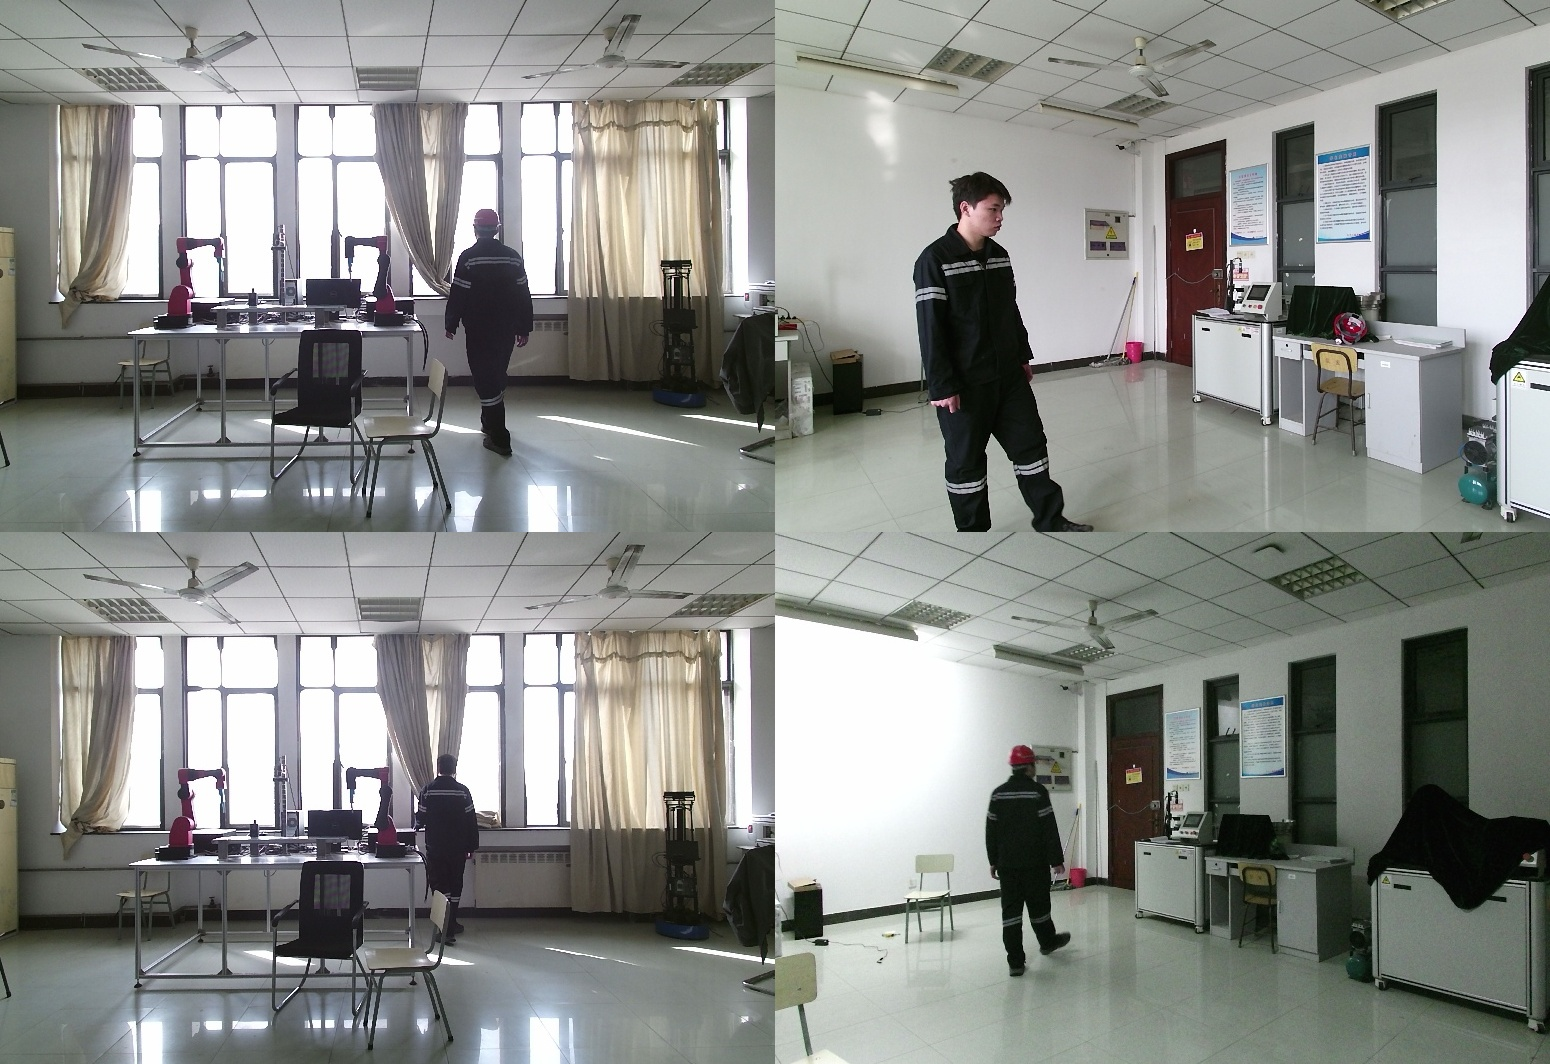person: (911, 174, 1081, 532), (449, 206, 541, 457), (976, 744, 1073, 979), (414, 752, 483, 911)
